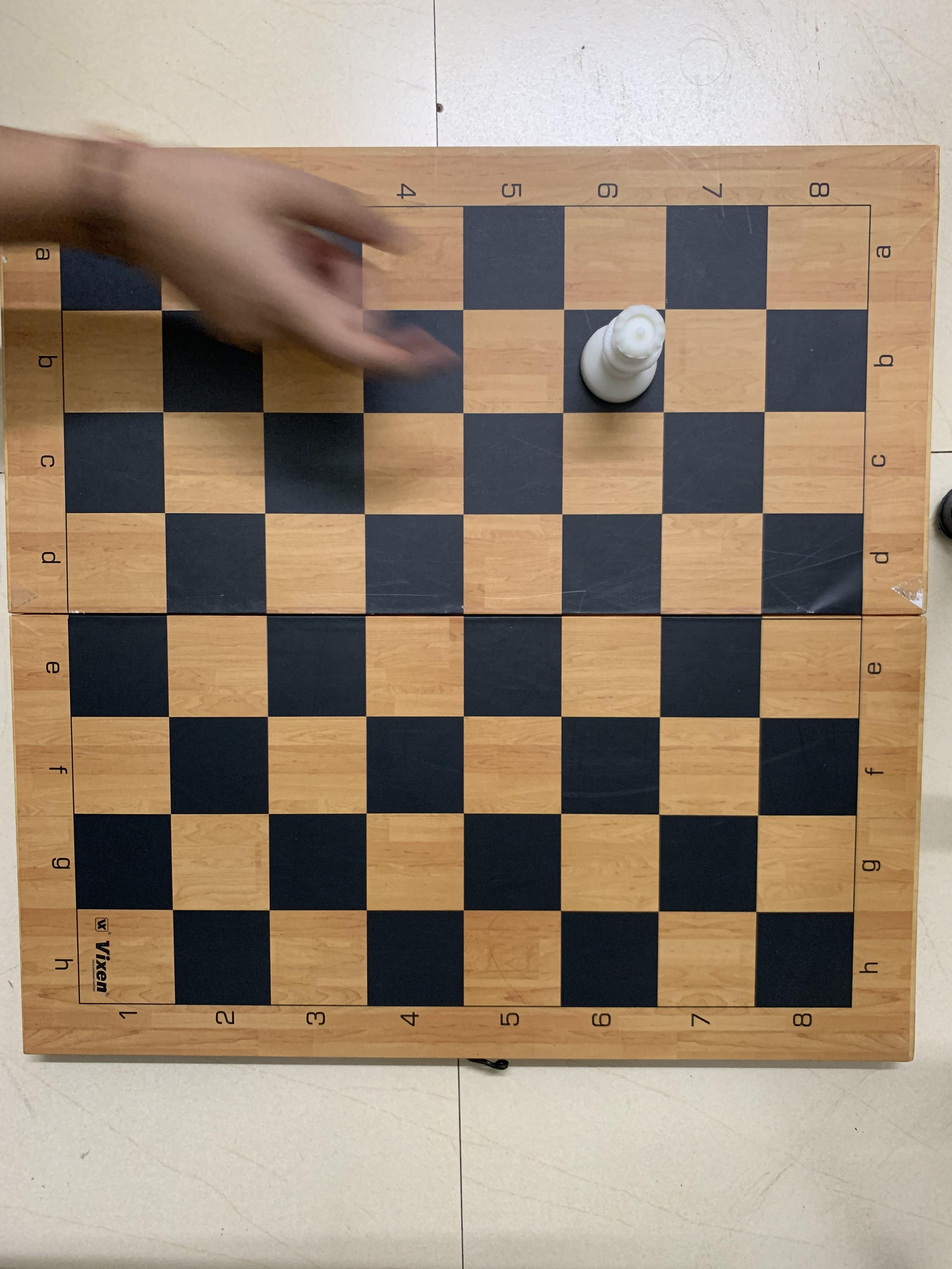white_queen: (566, 311, 668, 411)
